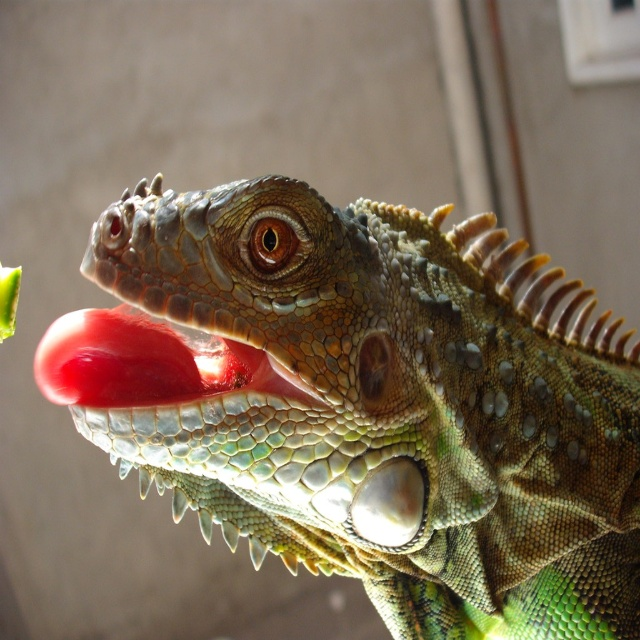Lizard: (84, 162, 640, 631)
